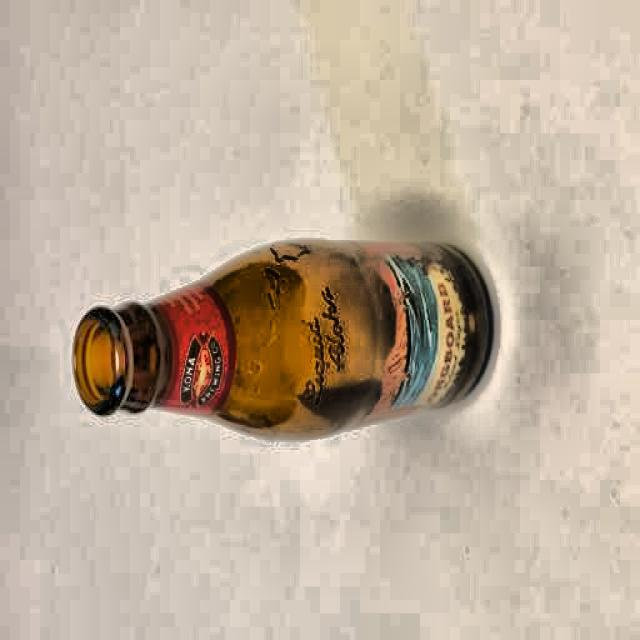glass: (71, 238, 499, 441)
